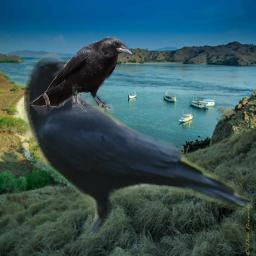Crow: (24, 52, 253, 238), (27, 36, 133, 116)
